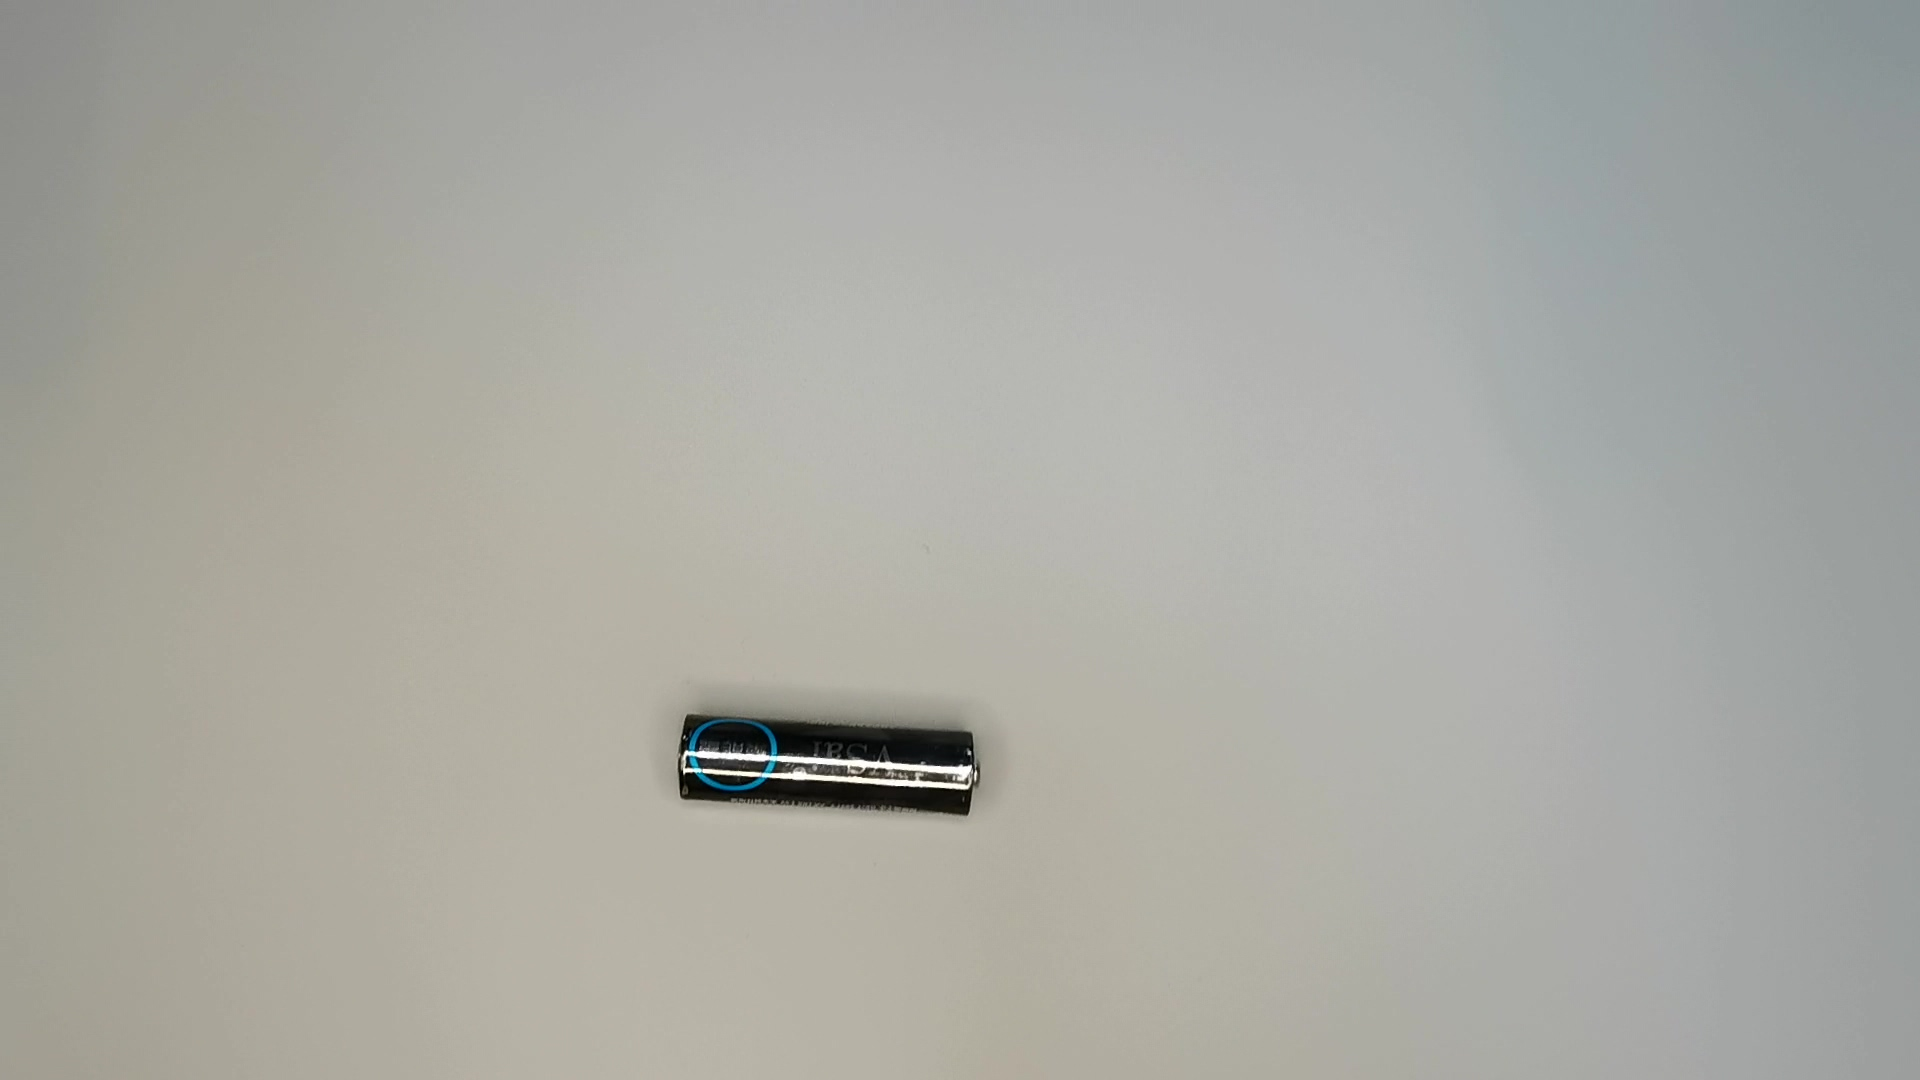battery: (670, 705, 996, 828)
